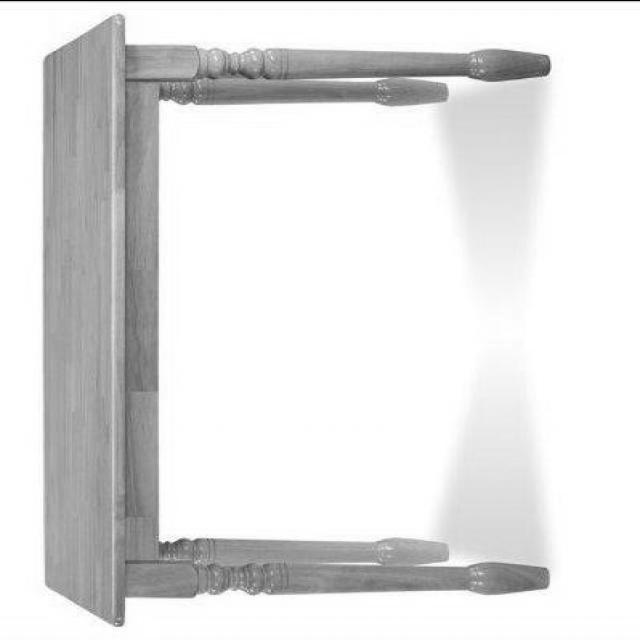table: (41, 11, 548, 627)
